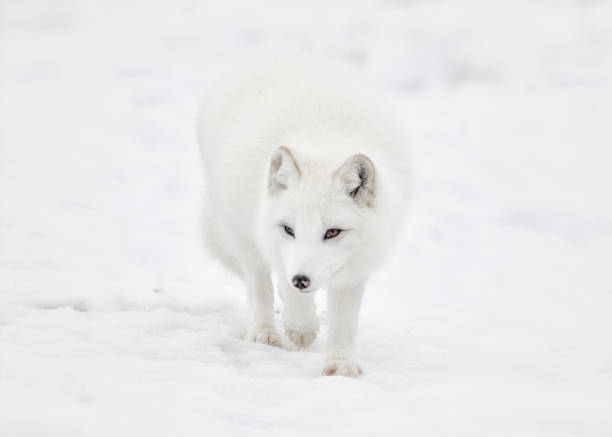arcticfox: (260, 155, 355, 309)
